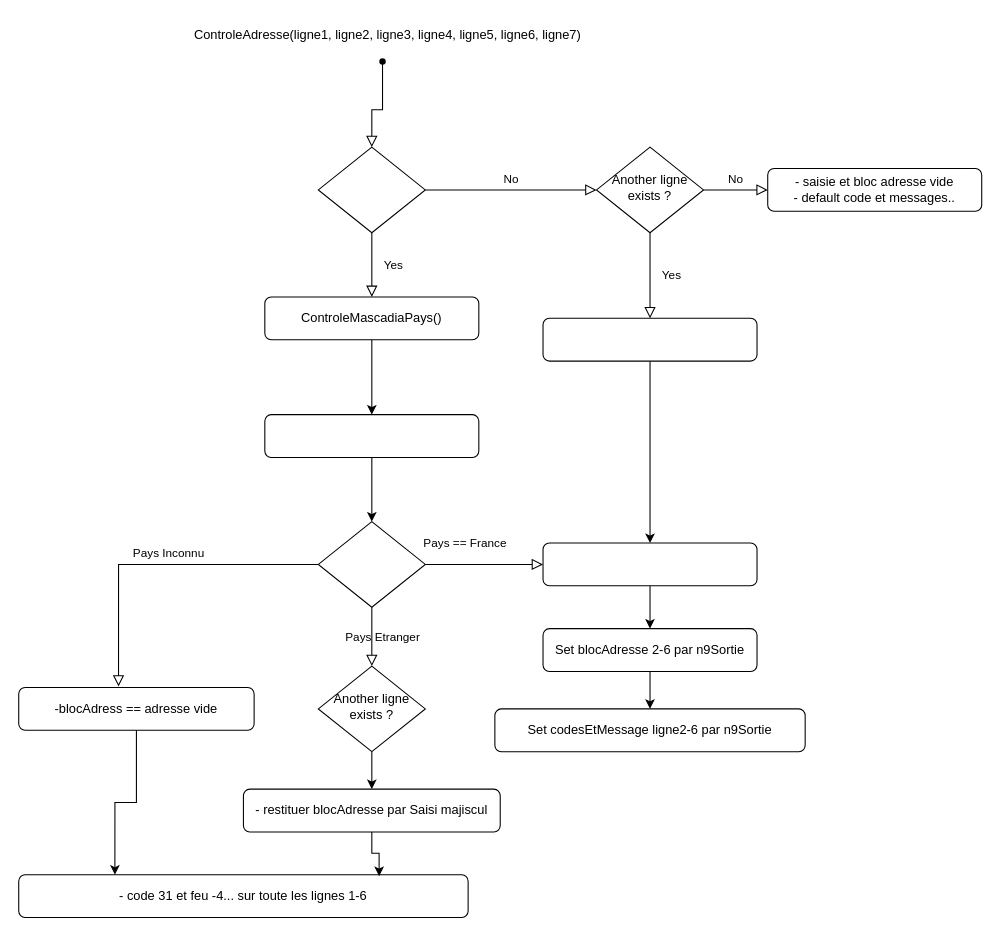
This 1000x936 diagram has some shape labels left out. Each missing label, with the centre of its shape:
"ControleNormad()" goes at pixel 649 564.
"Ligne7 exists ?" goes at pixel 371 189.
"Pays ?" goes at pixel 371 564.
"Set default ligne7 codesEtMessage (FR)" goes at pixel 649 339.
"Set ligne7 codesEtMessage" goes at pixel 371 435.
